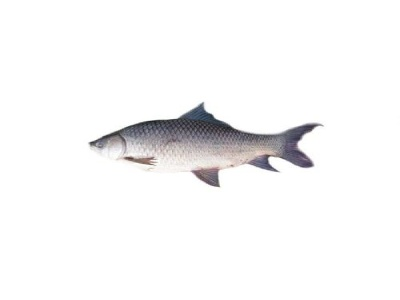rohu: (88, 99, 324, 191)
